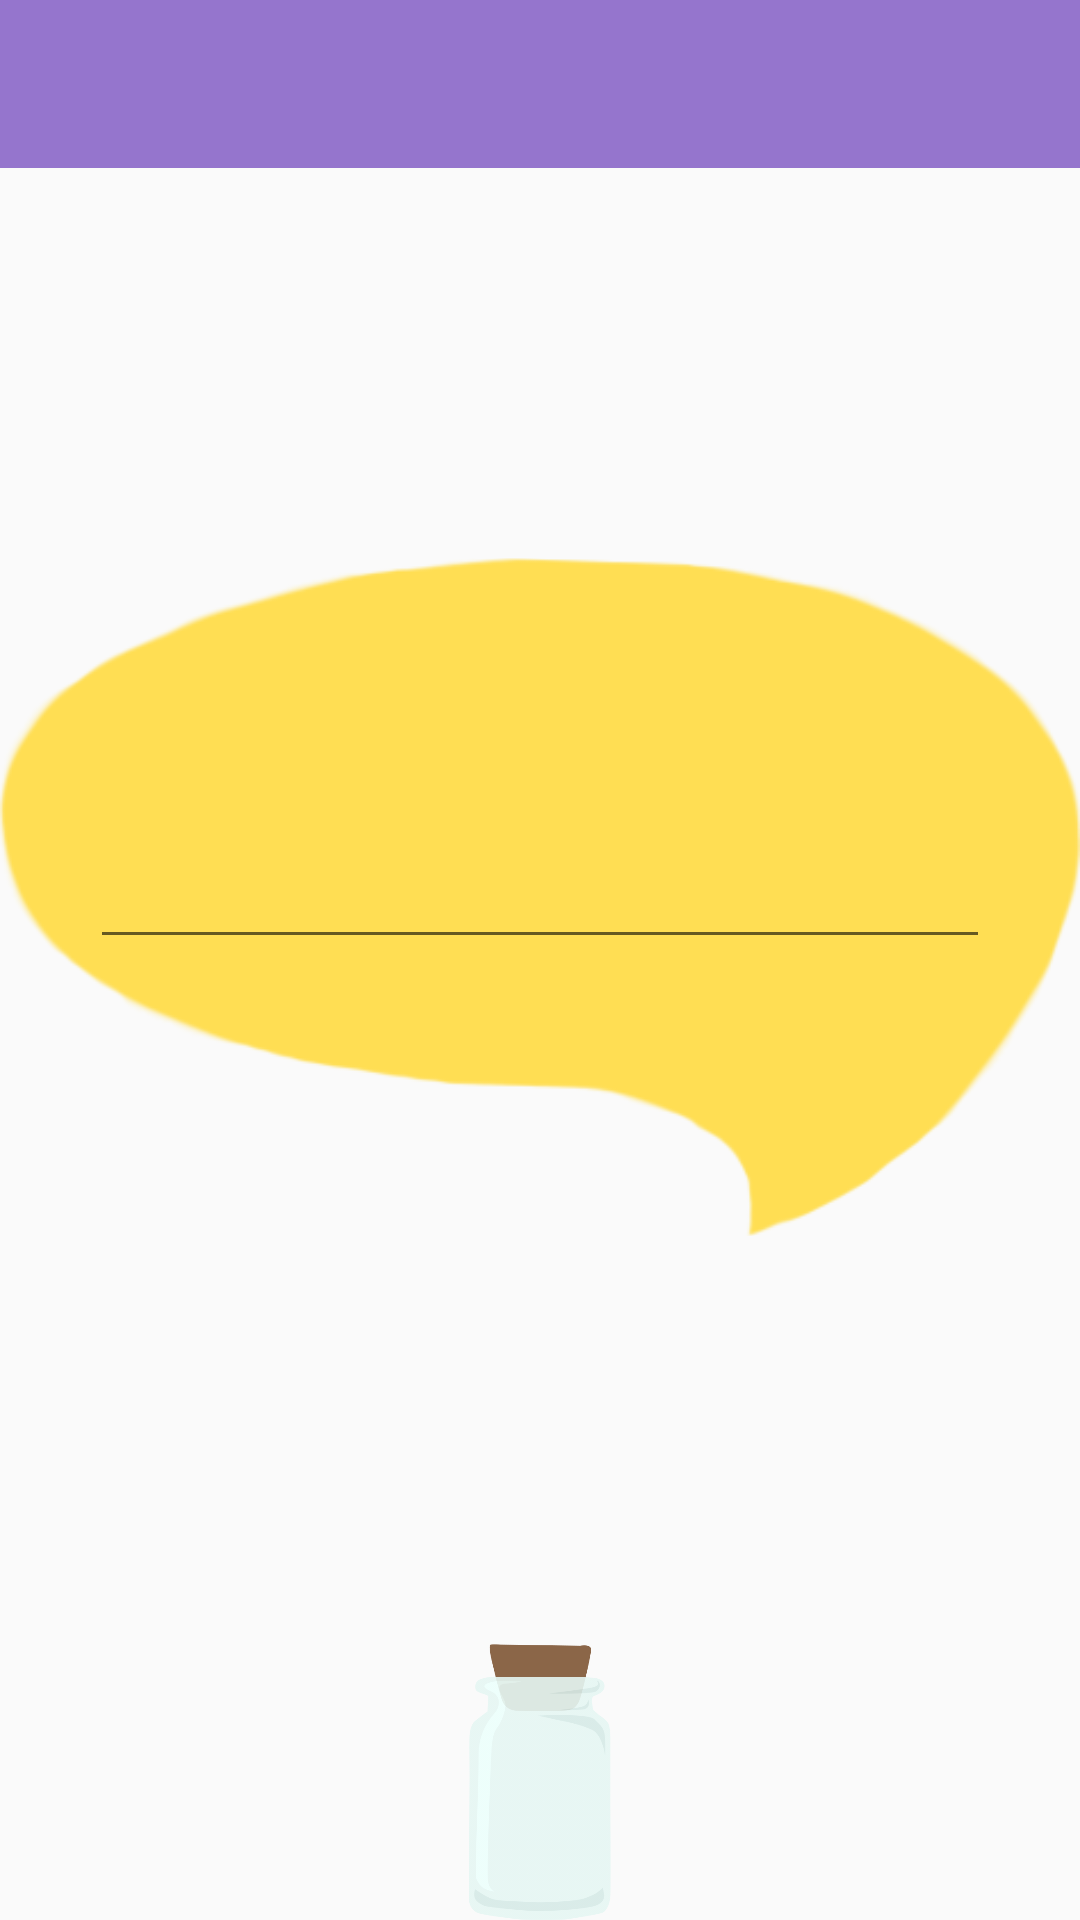

Locate icon controls on the screen. Image size 1080*1920, boxes as bbox=(x1, y1, x2, y2).
bottle: bbox=(469, 1644, 611, 1920)
